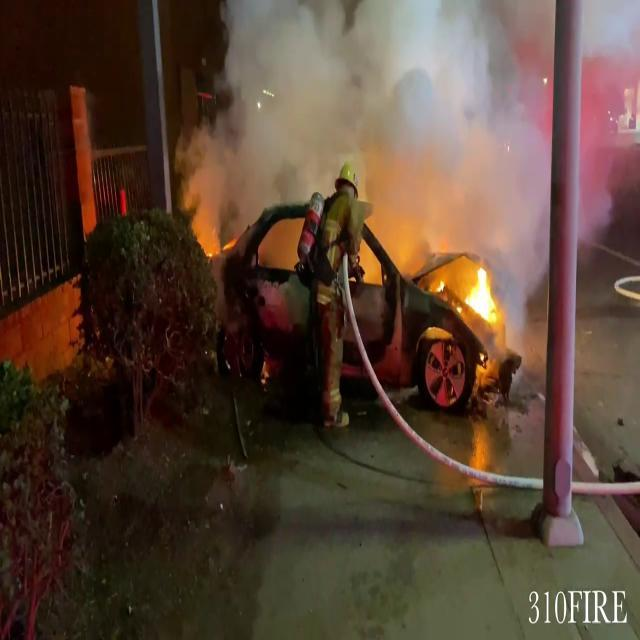Fire: (460, 262, 504, 328)
Smoke: (192, 0, 550, 217)
